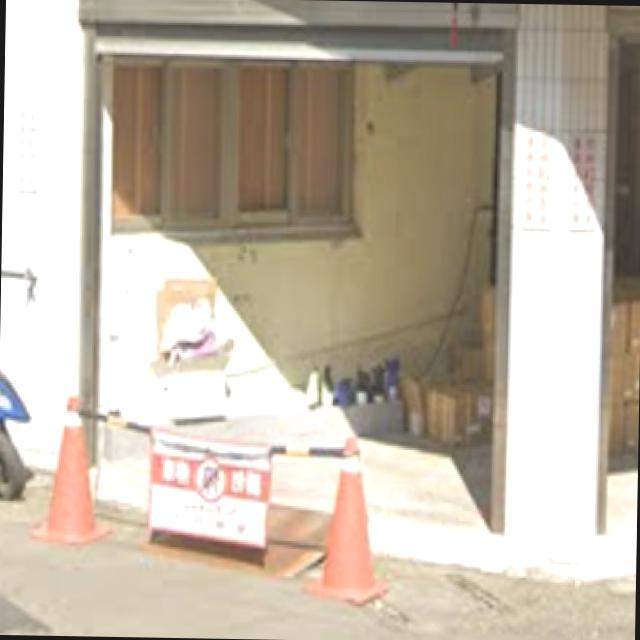cone: (304, 429, 392, 602), (35, 390, 122, 551)
